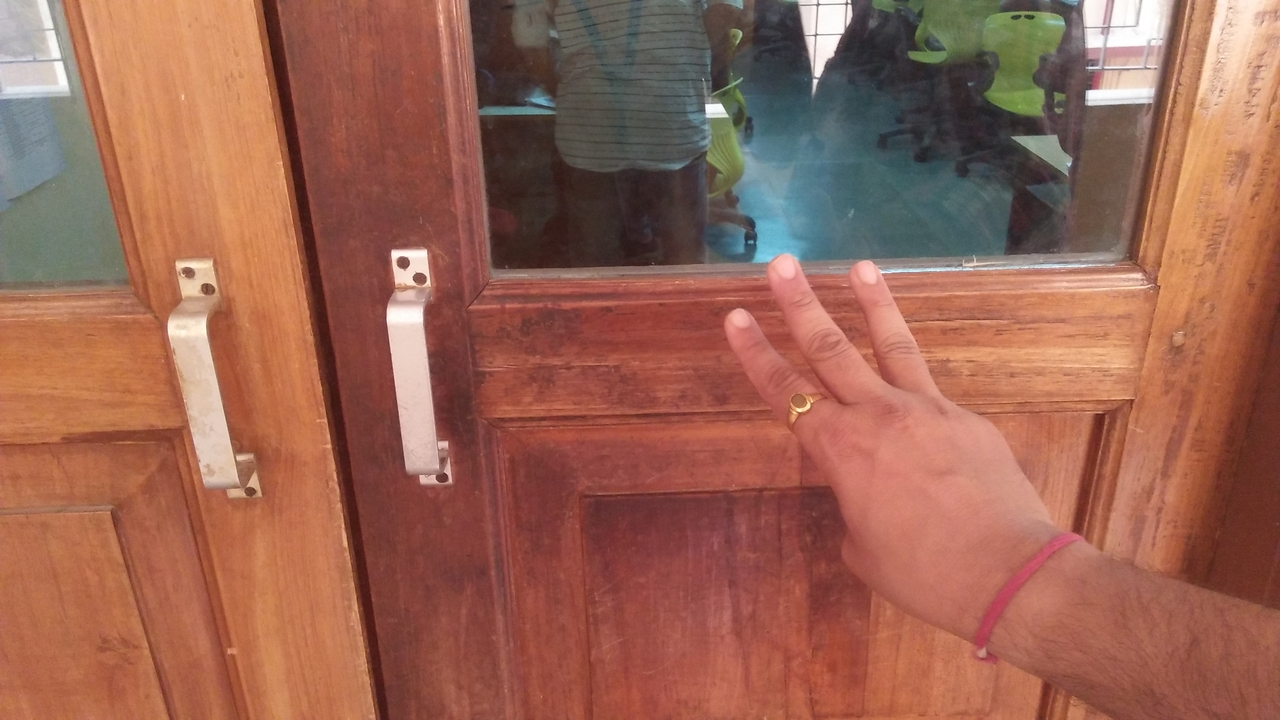fingertip: (844, 246, 900, 300), (760, 242, 814, 292), (718, 300, 766, 344)
